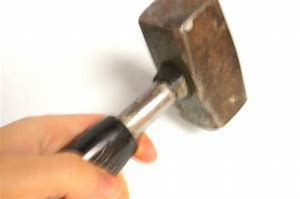hammer: (38, 1, 250, 197)
